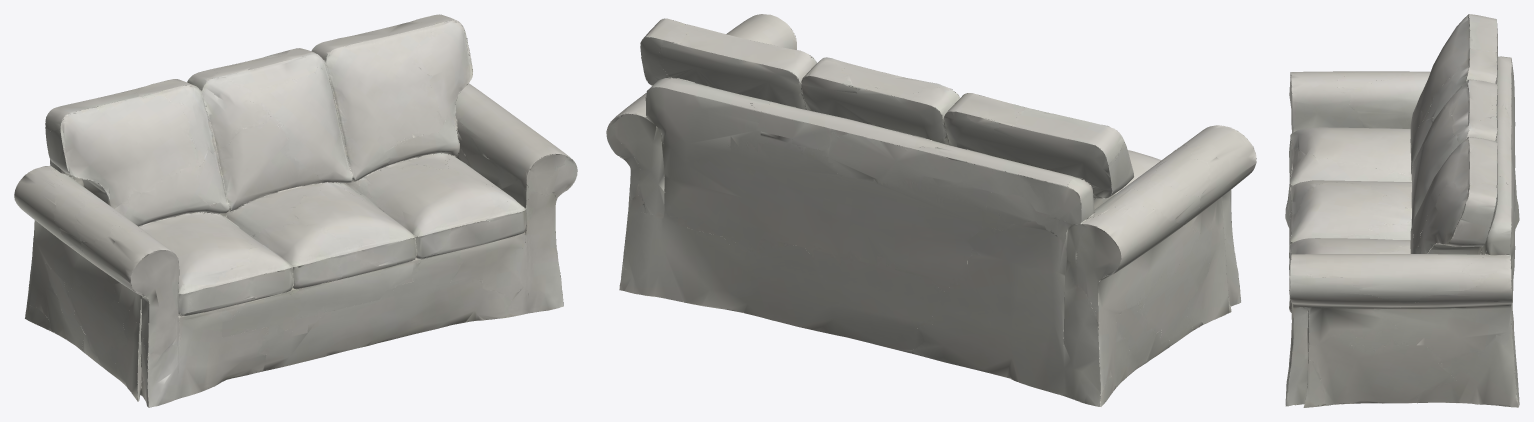
File: ikea-uppland-sofa-blekinge-white-19384116.glb
3 views of the same model, side by side, from view 1: azimuth 30°, elevation 25°; view 2: azimuth 150°, elevation 25°; view 3: azimuth 270°, elevation 25° (orthographic). The views are drawn at different scales.
Parts seen in each view (by area): view 1: model; view 2: model; view 3: model.
Boxes of the visible parts, box(x1,y1,x2,y2) form: model: box(14, 14, 577, 407); model: box(606, 14, 1256, 406); model: box(1285, 14, 1519, 407).
Bounding box in the file's own units: 1.78 × 0.8398 × 0.852.
1 material, 1 textured.
